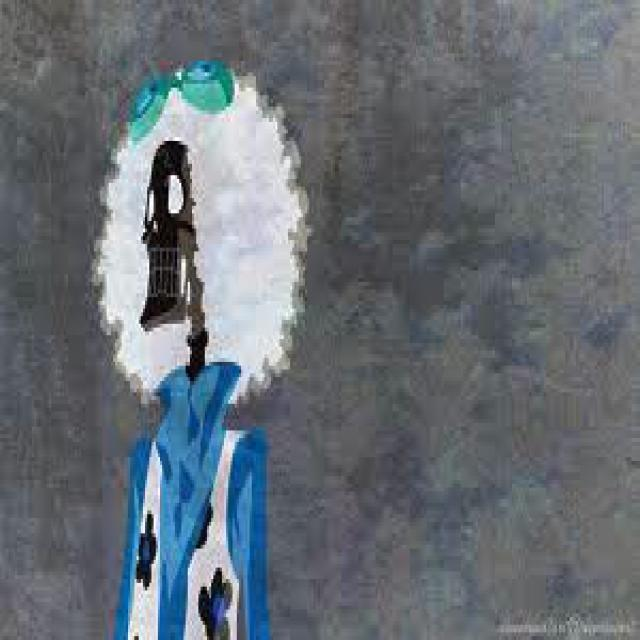Brook: (100, 61, 309, 640)
